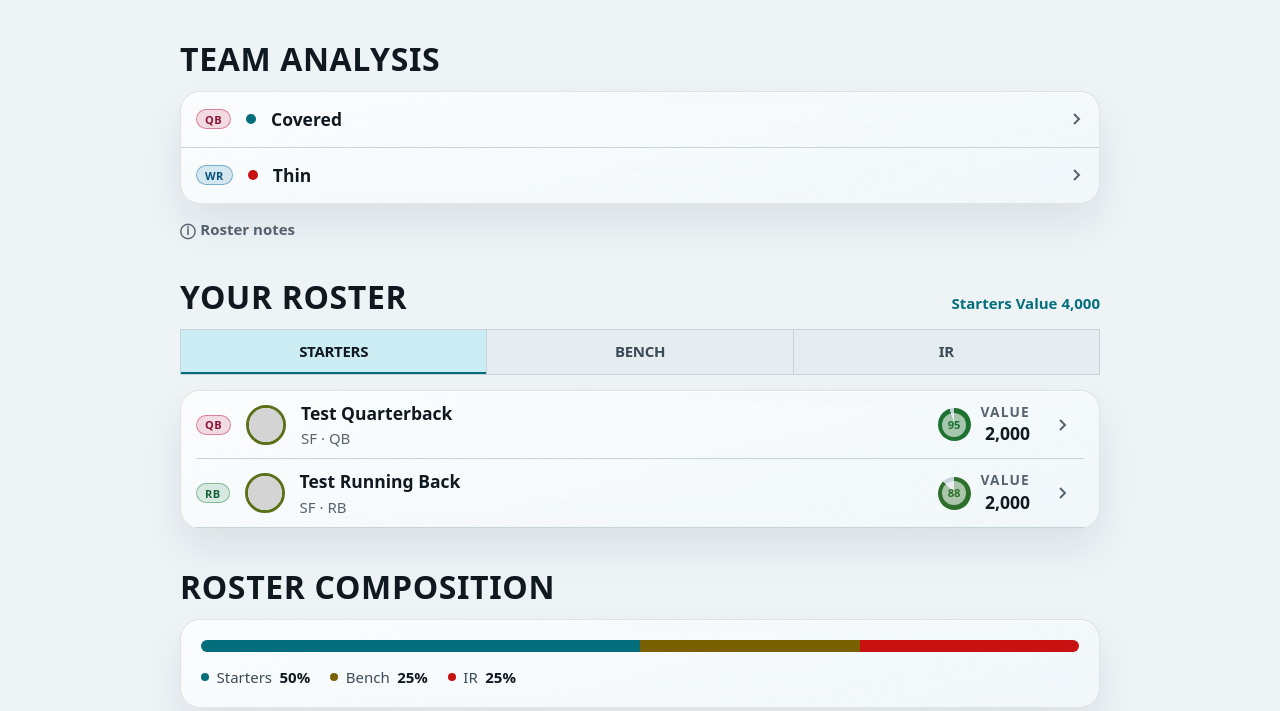
it: MyTeamContent › renders real starters/bench with OVR gauges and canonical position colors
(page scrolled)
Expected: the text "Test Quarterback" is shown, [301,401,452,426]
Expected: the text "Test Running Back" is shown, [300,469,460,494]
Click the tab "Bench" at (639, 352), box [486,330,793,374]
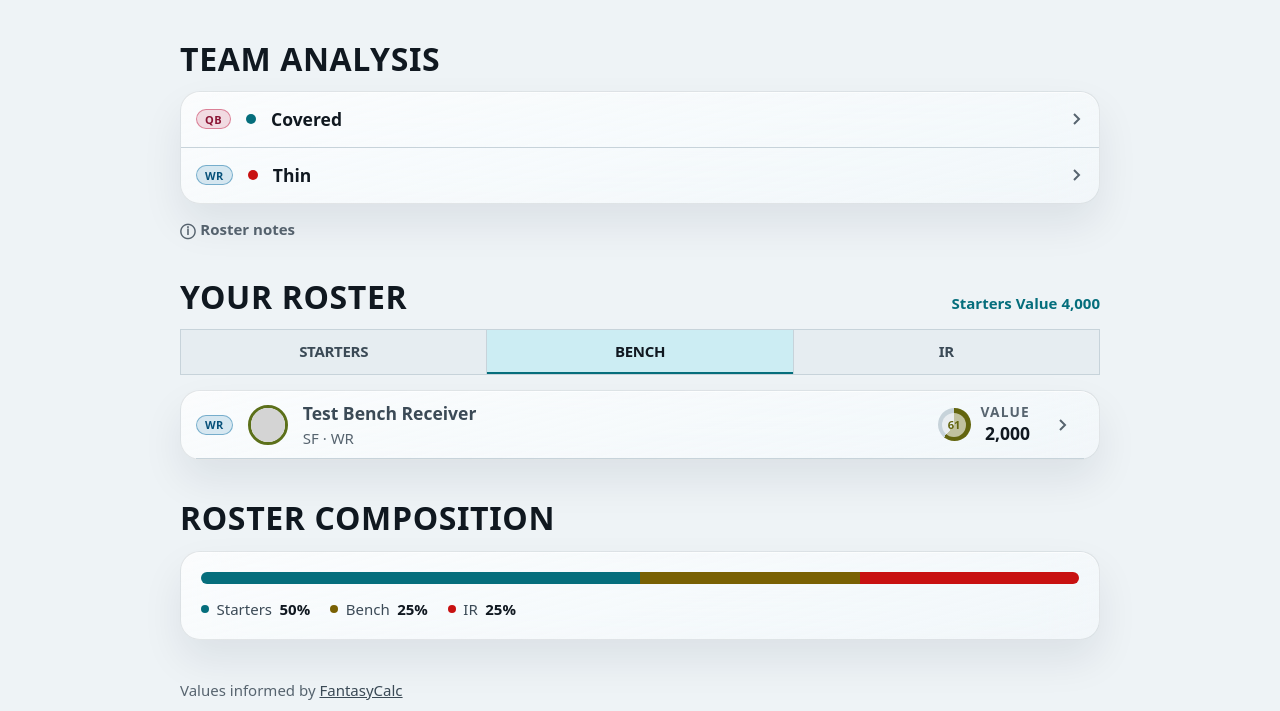
Result: the text "Test Bench Receiver" is shown at [303,401,476,426]
Click the tab "IR" at (946, 352), box [793,330,1099,374]
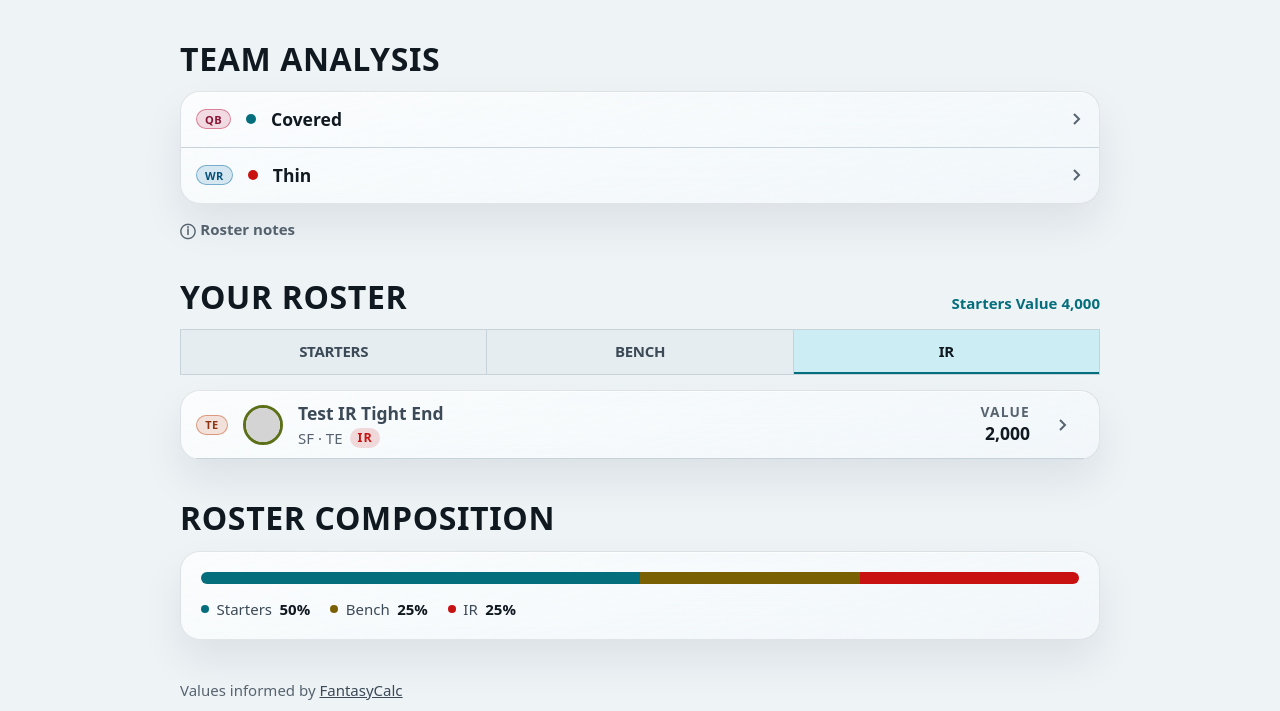
Result: the text "Test IR Tight End" is shown at [298,401,444,426]
Click the tab "Starters" at (334, 352), box [181,330,486,374]
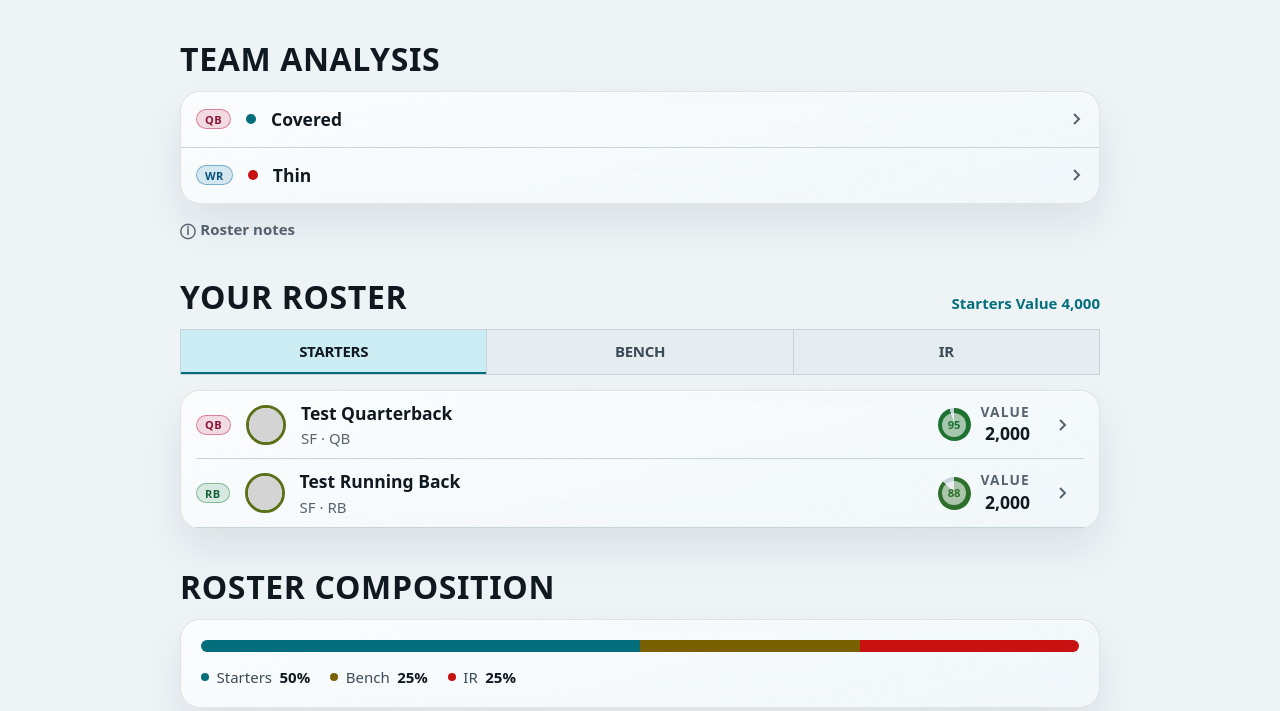
Result: the text "95" is shown at [948,419,960,430]
Result: the text "88" is shown at [948,488,960,499]
